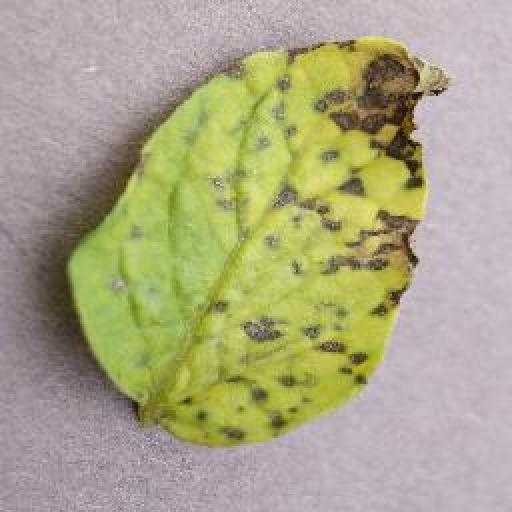disease_tomato: (69, 38, 452, 450)
